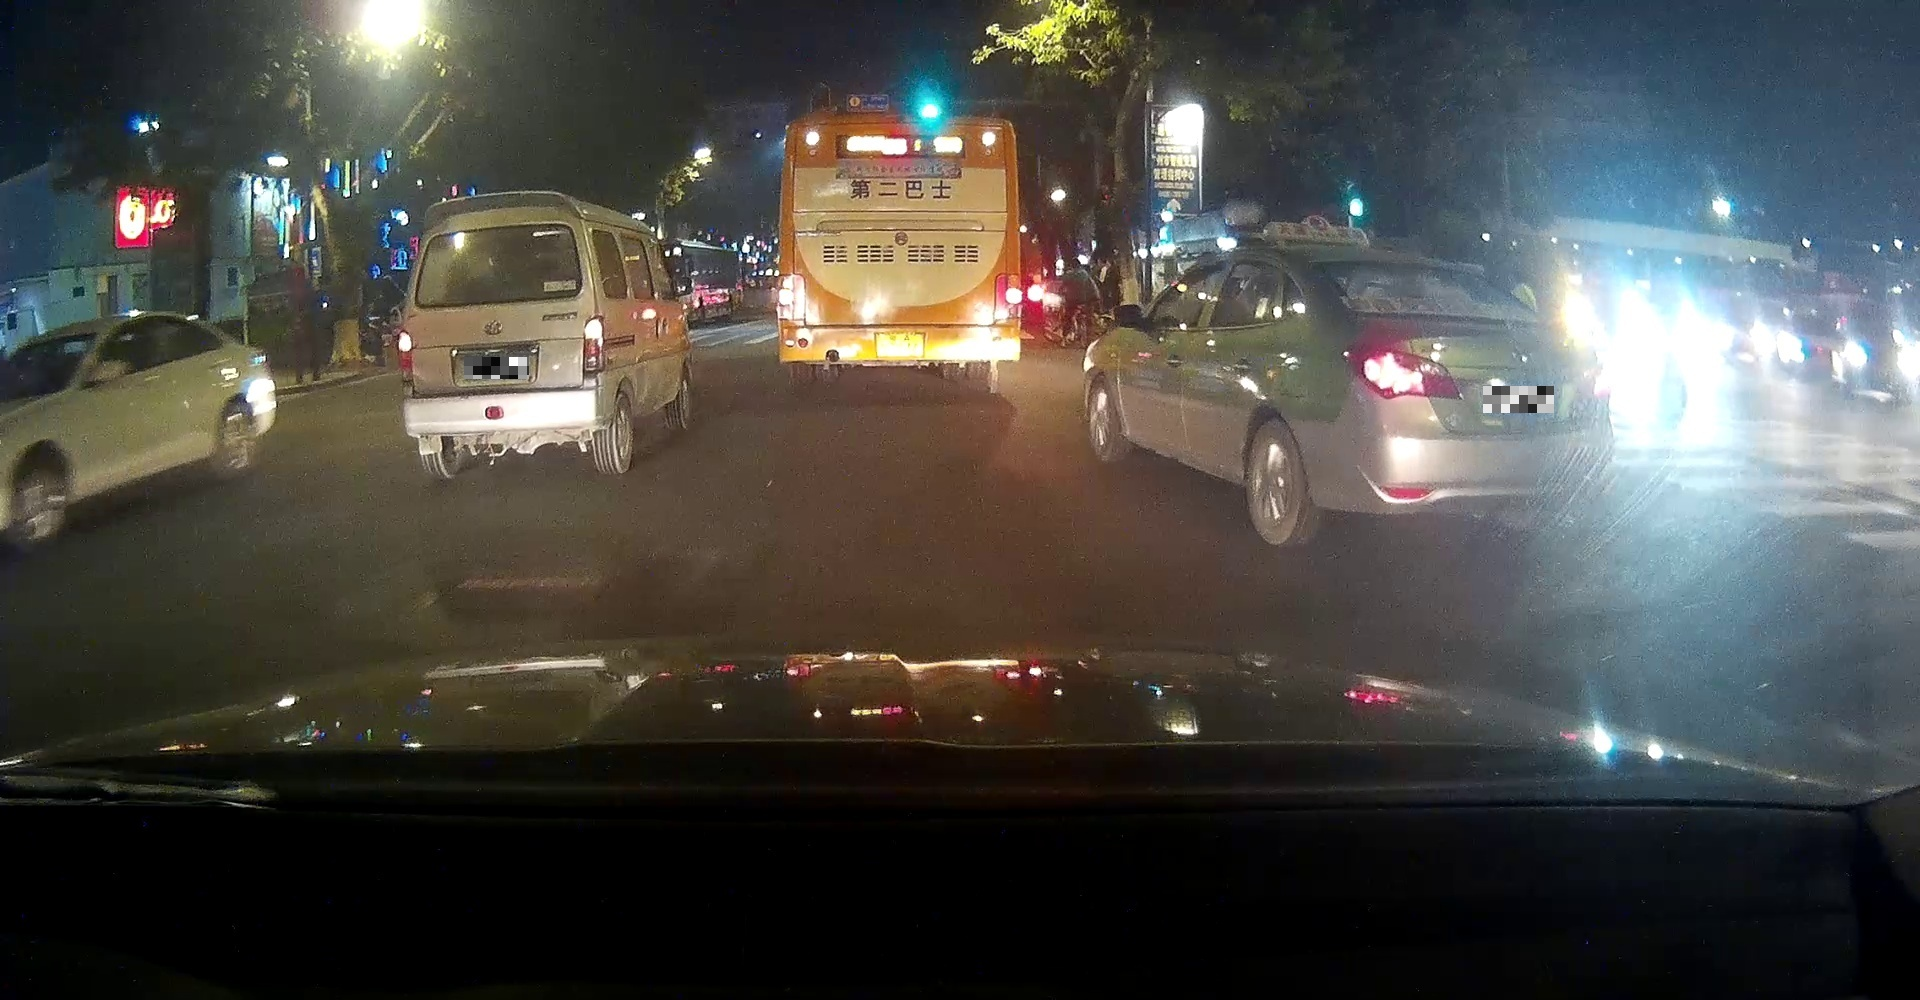L_light: (1343, 348, 1464, 400), (777, 274, 794, 320), (397, 330, 413, 373)
R_light: (583, 316, 604, 371), (1004, 274, 1022, 319), (1589, 362, 1610, 395)
T_light: (1403, 263, 1435, 272), (879, 119, 910, 127), (474, 228, 502, 235)
night-no: (1305, 253, 1613, 553), (776, 115, 1022, 383), (397, 192, 610, 482)
plate_1: (463, 357, 530, 379)
plate_2: (1483, 386, 1554, 412)
